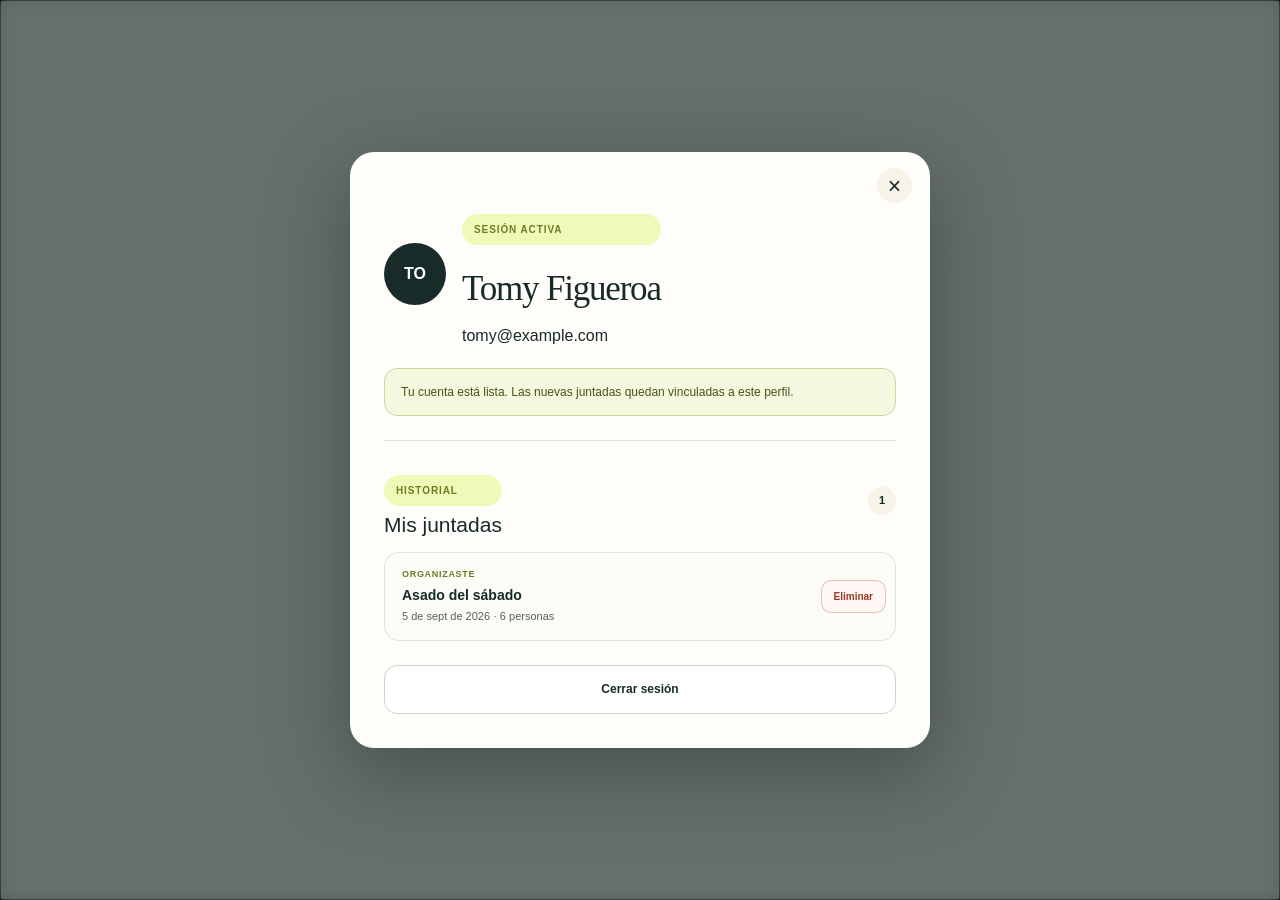
Test case: AccountDialog › confirma y elimina una juntada propia del historial
This screenshot has width=1280, height=900.
Check: the text "Asado del sábado" is shown, box 402,587 -> 522,603
What coordinates should you click on to do the following:
click the button "Eliminar"
I would click on:
 (853, 596)
Its box is 820,580 -> 886,613.
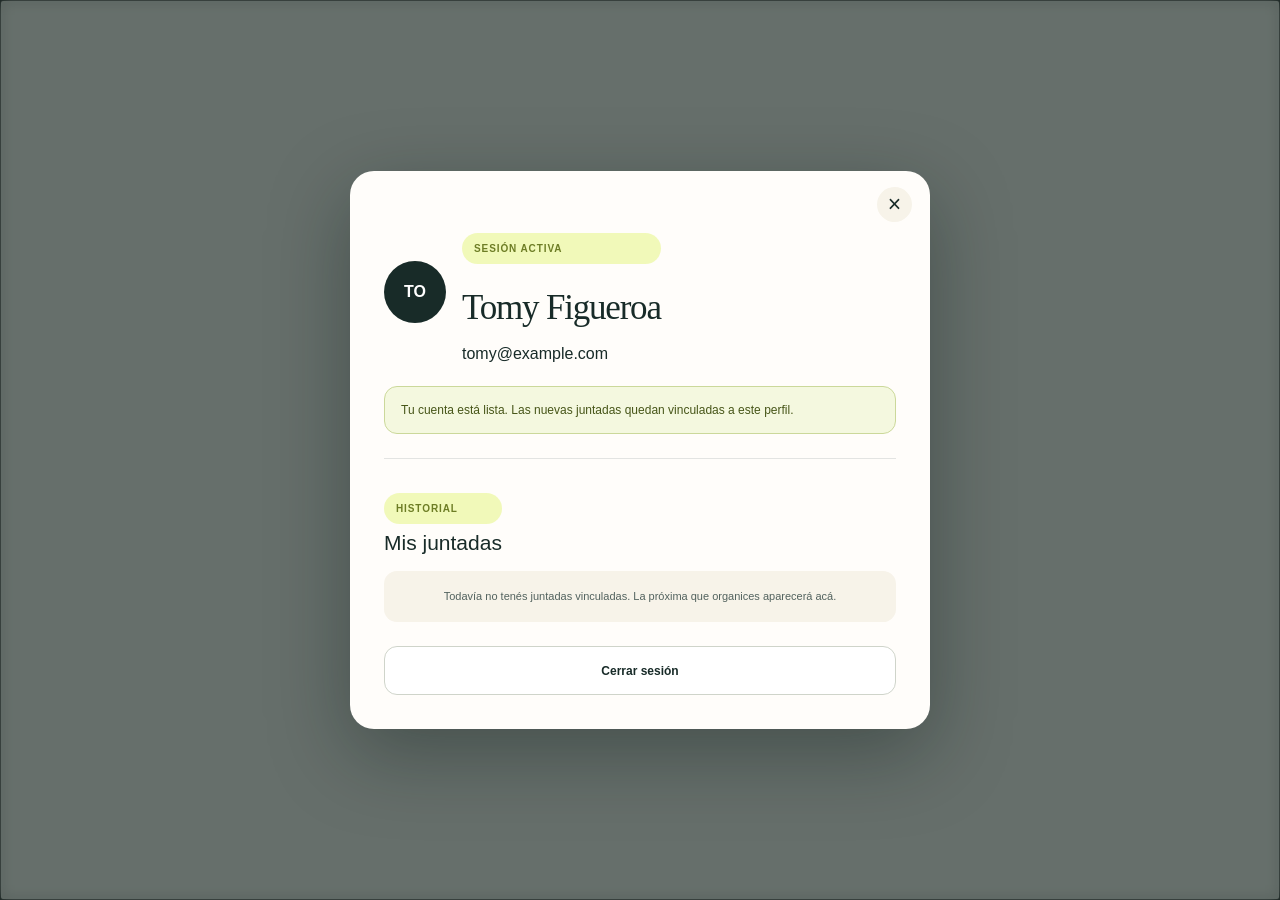
Check: the button "Asado del sábado" is gone
